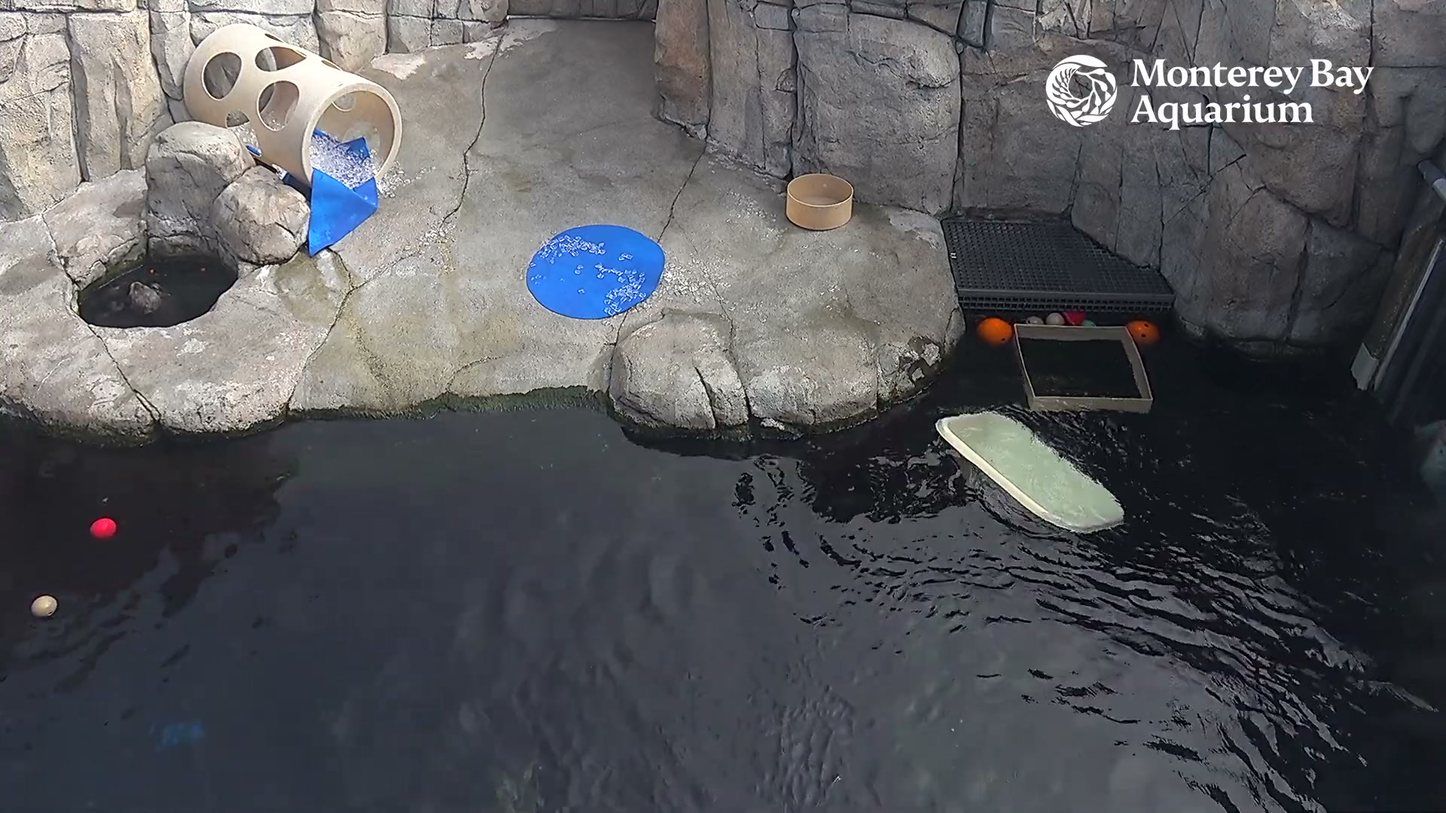Southern Sea Otter: (112, 258, 192, 338)
